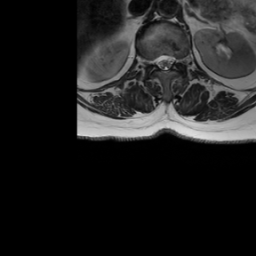CCS_normal: (161, 48, 168, 77)
LFS_stenosis: (175, 49, 182, 69)
LLS_normal: (168, 48, 175, 72)
RFS_stenosis: (149, 51, 155, 71)
RLS_normal: (155, 50, 161, 72)
